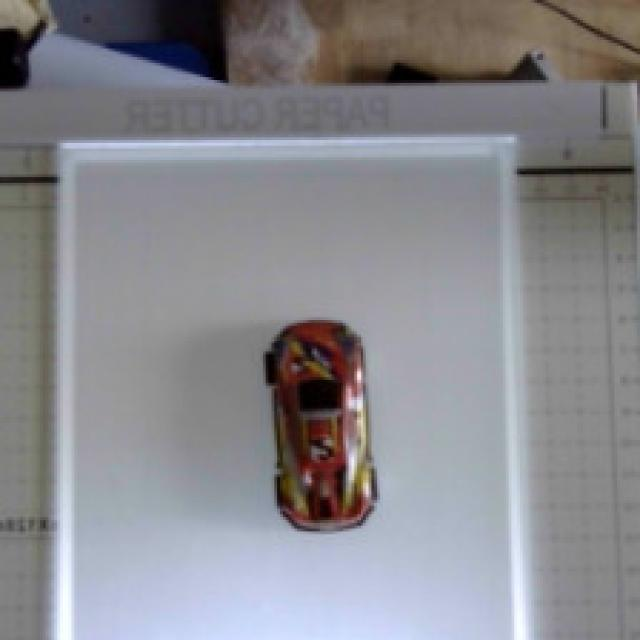Red Car: (236, 299, 404, 570)
